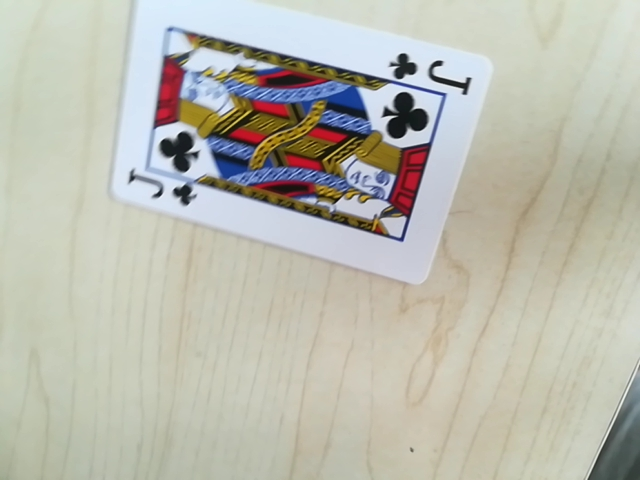mh j: (385, 51, 478, 92), (123, 174, 199, 208)
